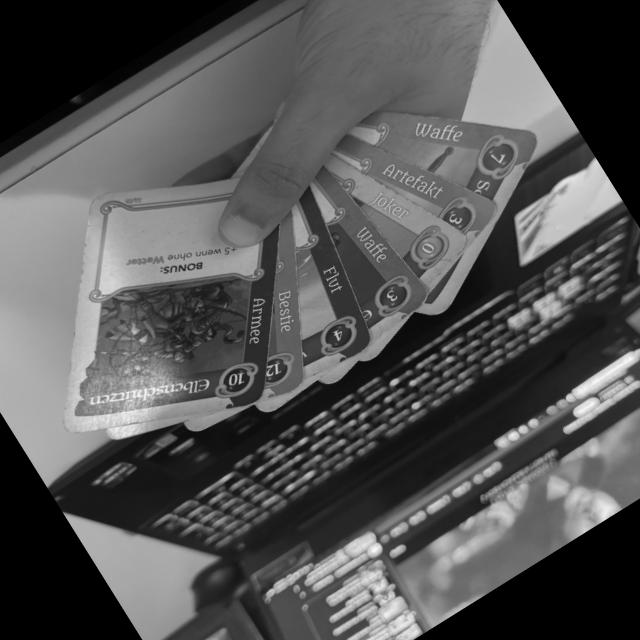Book Of Changes: (332, 133, 499, 239)
Elven Archers: (61, 177, 280, 433)
Elven Longbow: (309, 164, 431, 341)
Hydra: (260, 209, 302, 400)
Mirage: (321, 150, 471, 288)
Sword of Keth: (345, 110, 542, 207)
Water Elemental: (290, 185, 371, 381)
